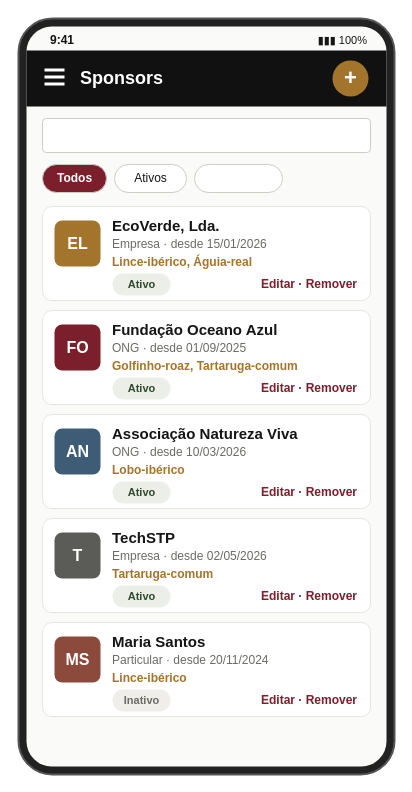
Image size: 412x792. Some labels were removed from this diagram. Here are the shapes that lost their labels. From the top down, the centre of each, then its label:
At point 206,135: "Pesquisar…".
At point 238,178: "Inativos".
